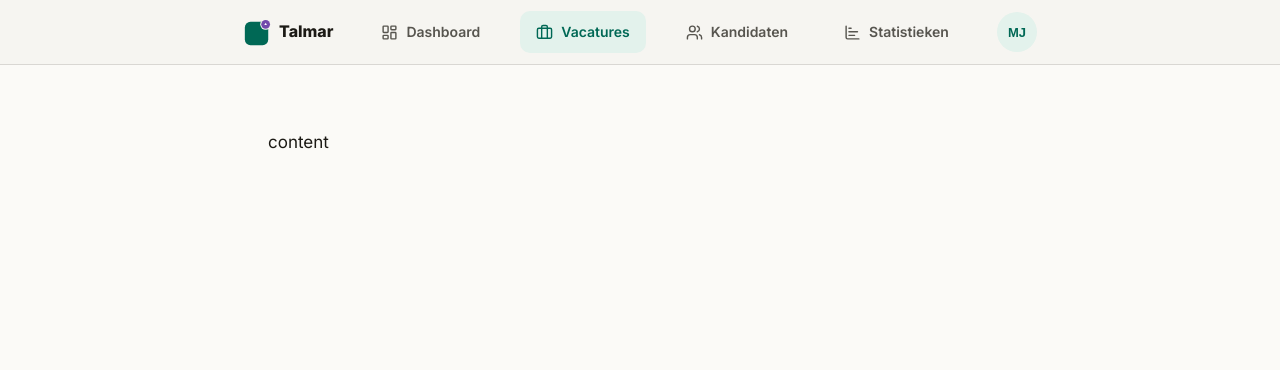
Test: AppShell › opens the account menu on avatar click and renders its items
The width and height of the screenshot is (1280, 370).
Click the button "MJ": (1017, 32) x1=997 y1=12 x2=1037 y2=52
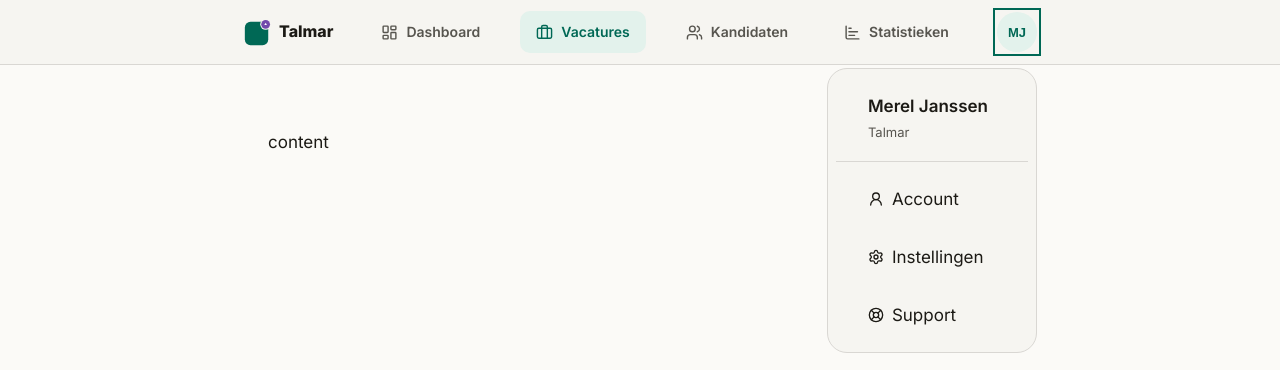
expect the menu named "Accountmenu" is shown: met, box x1=827 y1=68 x2=1037 y2=353
expect the text "Merel Janssen" is shown: met, box x1=868 y1=93 x2=996 y2=119
expect the text "Talmar" below "Merel Janssen" is shown: met, box x1=868 y1=124 x2=909 y2=140
